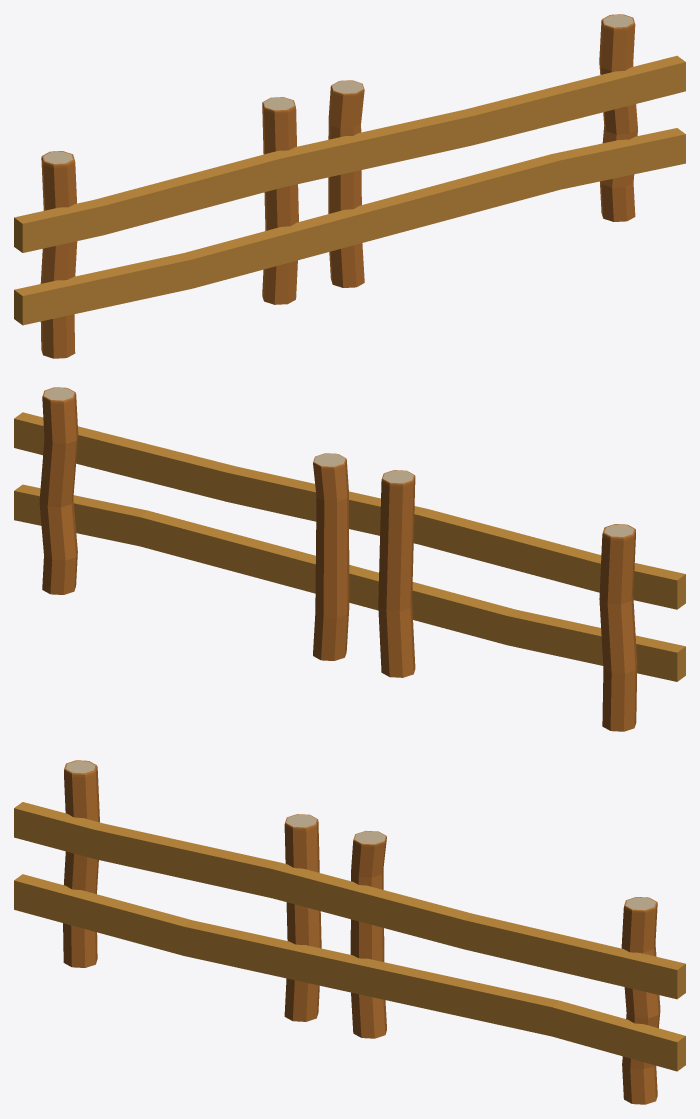
The model's file is Fence.fbx.
3 views of the same model, one above another, from view 1: azimuth 30°, elevation 25°; view 2: azimuth 150°, elevation 25°; view 3: azimuth 330°, elevation 25° (orthographic).
Visible parts, largest first — view 1: Fence001; view 2: Fence001; view 3: Fence001.
Part boxes in pixels (bbox=[...]): Fence001: bbox=[14, 14, 685, 358]; Fence001: bbox=[14, 387, 685, 731]; Fence001: bbox=[14, 760, 685, 1104].
Size of the model in its own units: 890 by 249 by 56.55.
